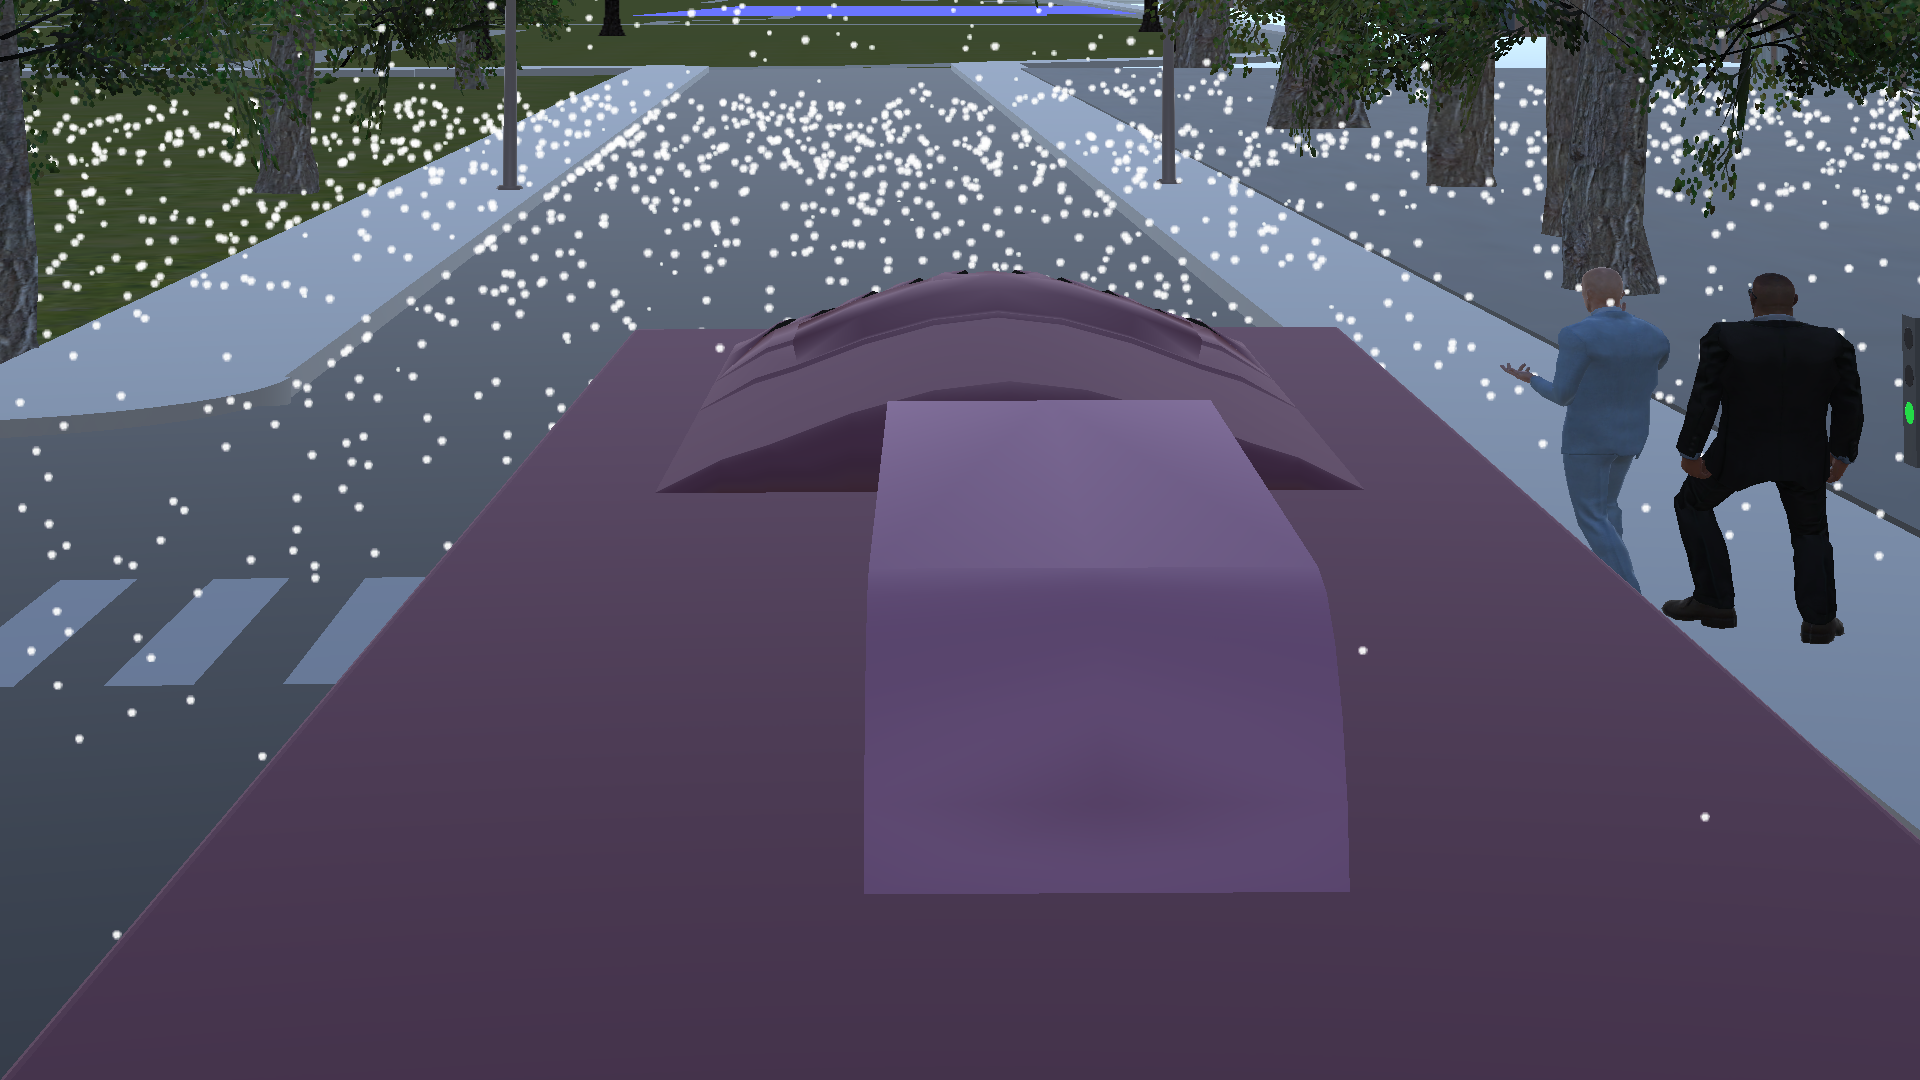pedestrian: (1657, 249, 1851, 644), (1495, 244, 1669, 612)
